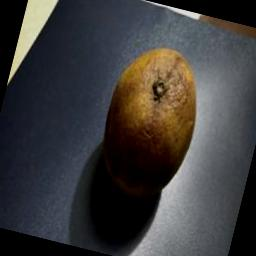Orange Rotten: (71, 32, 232, 218)
